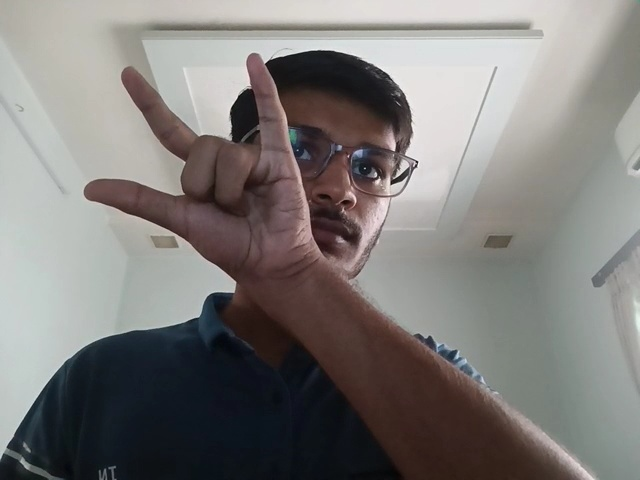I Love You: (76, 49, 323, 284)
